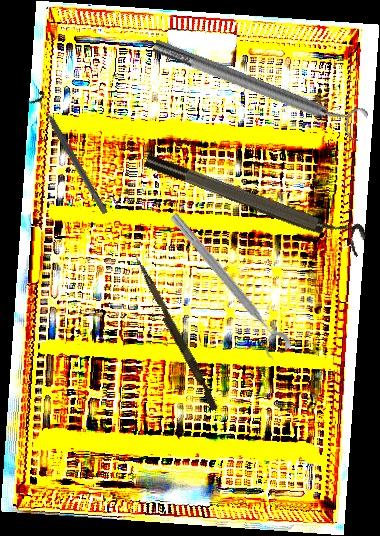Fixation Ring: (148, 26, 370, 145), (142, 141, 369, 257), (157, 208, 295, 364), (25, 89, 115, 219)
Pusher: (129, 256, 222, 411)
